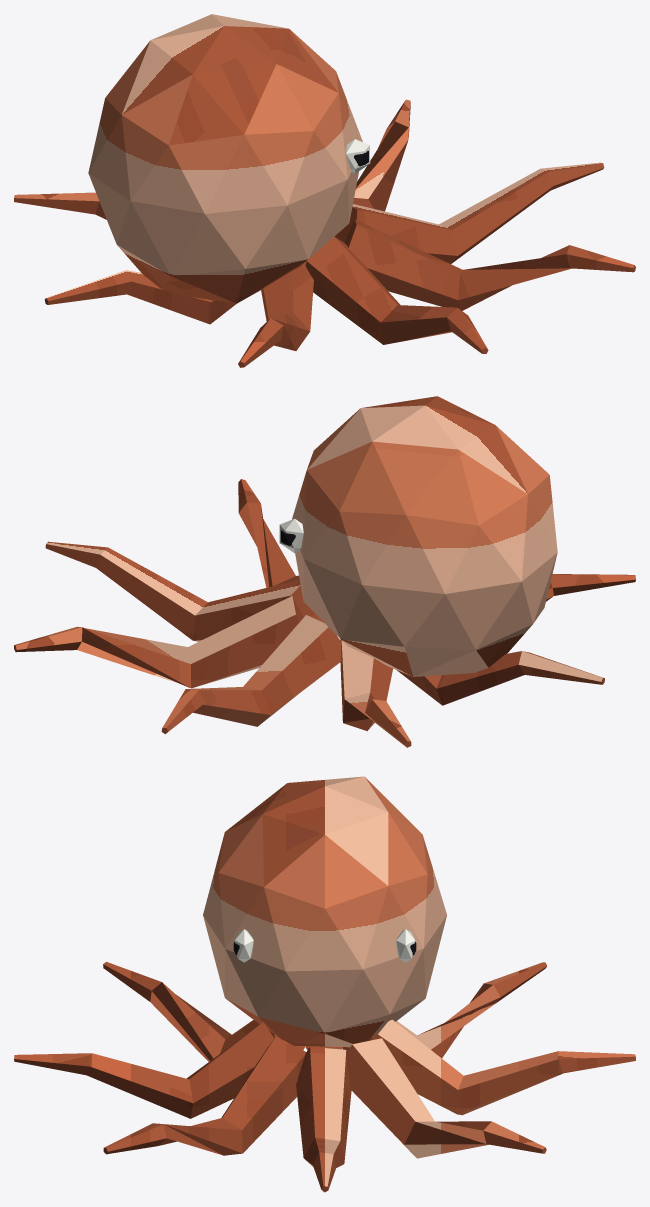
The model's file is octopus.glb.
The picture shows the model from 3 angles, top to bottom: view 1: azimuth 30°, elevation 25°; view 2: azimuth 150°, elevation 25°; view 3: azimuth 270°, elevation 25°; orthographic projection. The views are drawn at different scales.
Visible parts, largest first — view 1: fish_octopus; view 2: fish_octopus; view 3: fish_octopus.
Part boxes in pixels (bbox=[...]): fish_octopus: bbox=[14, 14, 635, 367]; fish_octopus: bbox=[14, 396, 635, 747]; fish_octopus: bbox=[14, 776, 635, 1192].
Size of the model in its own units: 1 by 0.5036 by 1.
Materials: 3 (1 with a texture image).
